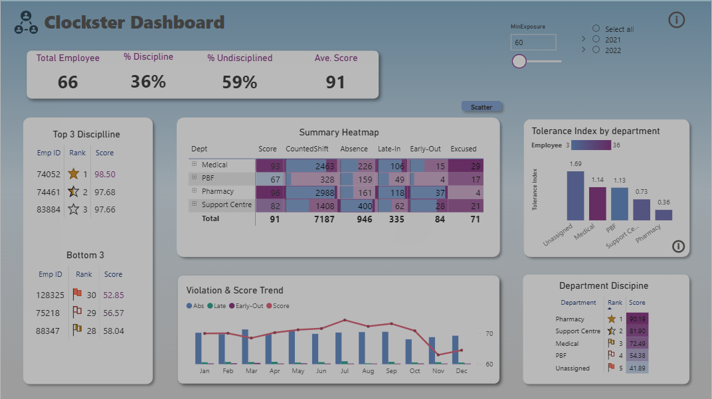

What the dashboard file says about the page in this screenshot:
{"tool":"powerbi","page":{"name":"Exec Summary","canvas":[1280,720],"ordinal":0},"visuals":[{"type":"group","id":"g1","title":"Undisc Emp","box":[732.3,76.9,254,108.2],"z":0},{"type":"shape","box":[732.3,76.9,254,108.2],"z":0,"group":"g1"},{"type":"shape","box":[986.3,76.9,254,108.2],"z":0,"group":"g2"},{"type":"shape","title":"Shape KPI","box":[36.5,77.6,656,108.4],"z":0,"group":"g8"},{"type":"shape","title":"Shape Emp by Dept","box":[357.3,204.9,891.2,185],"z":0,"group":"g5"},{"type":"shape","title":"Shape Emp by Dept","box":[18,205,325.8,185],"z":0,"group":"g3"},{"type":"shape","title":"Shape Emp by Dept","box":[357.3,400.4,326.8,297.4],"z":0,"group":"g6"},{"type":"shape","title":"Shape Emp by Dept","box":[692.5,400.4,555.9,297.4],"z":0,"group":"g7"},{"type":"shape","title":"Shape Emp by Dept","box":[17,401,326.8,297.4],"z":0,"group":"g4"},{"type":"group","id":"g2","title":"Undisc Dept","box":[986.3,76.9,254,108.2],"z":1000},{"type":"cardVisual","title":"Total Employee","fields":{"Data":["Measure.Total_Emp"]},"box":[55.5,90.4,131.8,83.8],"z":1000,"group":"g8"},{"type":"cardVisual","title":"Top Undisciplined Department","fields":{"Data":["Min(users.department)"]},"box":[1001,91.4,224.2,81.4],"z":1000,"group":"g2"},{"type":"cardVisual","title":"Top Undisciplined Employee","fields":{"Data":["Min(schedules.user_id)"]},"box":[747.2,91.8,224.2,81.4],"z":1000,"group":"g1"},{"type":"barChart","title":"Employees by Department","fields":{"Y":["CountNonNull(users.user_id)"],"Category":["users.department"]},"box":[36.7,215.3,289.7,162.7],"z":1000,"group":"g3"},{"type":"lineClusteredColumnComboChart","title":"Violation & Score Trend","fields":{"Category":["Date_dim.Date Hierarchy.MonthName","Date_dim.Date Hierarchy.WeekdayName"],"Y":["Measure.Unexcused_Abs_Shifts_Count","Measure.Late_Shifts_Count","Measure.Early-Out_Shifts_Count"],"Y2":["Measure.Discipline_Score"]},"box":[375.1,215.3,858.3,162.7],"z":1000,"group":"g5"},{"type":"donutChart","title":"Category Distribution","fields":{"Y":["Measure.Undisciplined_Emp","Measure.Disciplined_Emp","Measure.Needs Attention"]},"box":[36.8,412.8,289.7,273.9],"z":1000,"group":"g4"},{"type":"clusteredColumnChart","title":"Tolerance Index by department","fields":{"Category":["users.department"],"Y":["Measure.Tolerance_Index"]},"box":[375.1,412.8,289.7,273.9],"z":1000,"group":"g6"},{"type":"pivotTable","title":"Summary Table","fields":{"Rows":["users.department","schedules.user_id"],"Values":["Measure.Discipline_Score","Measure.Unexcused_Abs_Shifts_Count","Measure.Late_Shifts_Count","Measure.Early-Out_Shifts_Count","Measure.Discipline_Category"]},"box":[709.4,412.8,523.9,273.9],"z":1000,"group":"g7"},{"type":"cardVisual","title":"% Disciplined","fields":{"Data":["Measure.% Discplined"]},"box":[201.4,89.4,131.8,83.8],"z":2000,"group":"g8"},{"type":"actionButton","title":"Button Info","box":[368,568.8,33,52.2],"z":2000,"group":"g6"},{"type":"actionButton","title":"Button Info","box":[1197.9,12.8,42.3,39.8],"z":3000},{"type":"cardVisual","title":"% Undisciplined","fields":{"Data":["Measure.% Undisciplined"]},"box":[366.1,90.4,131.8,83.8],"z":3000,"group":"g8"},{"type":"cardVisual","title":"Ave. Score","fields":{"Data":["Measure.Discipline_Score"]},"box":[539.3,90.4,131.8,83.8],"z":4000,"group":"g8"},{"type":"group","id":"g3","title":"Emp by Dept","box":[18,205,325.8,185],"z":5000},{"type":"group","id":"g4","title":"Cat Distribution","box":[17,401,326.8,297.4],"z":6000},{"type":"group","id":"g5","title":"Violation Trend","box":[357.3,204.9,891.2,185],"z":7000},{"type":"group","id":"g6","title":"Tolerance Index","box":[357.3,400.4,326.8,297.4],"z":8000},{"type":"group","id":"g7","title":"Matrix Table","box":[692.5,400.4,555.9,297.4],"z":9000},{"type":"group","id":"g8","title":"KPI","box":[36.5,77.6,656,108.4],"z":10000}]}

Visuals, with their boxes in screenshot pixels (x1, y1, x2, y2), scaled from the page's 1280x720 canvas onto the 712x399 screenshot:
"Undisc Emp" group: (407,43,549,103)
shape: (407,43,549,103)
shape: (549,43,690,103)
"Shape KPI" shape: (20,43,385,103)
"Shape Emp by Dept" shape: (199,114,694,216)
"Shape Emp by Dept" shape: (10,114,191,216)
"Shape Emp by Dept" shape: (199,222,381,387)
"Shape Emp by Dept" shape: (385,222,694,387)
"Shape Emp by Dept" shape: (9,222,191,387)
"Undisc Dept" group: (549,43,690,103)
"Total Employee" cardVisual: (31,50,104,97)
"Top Undisciplined Department" cardVisual: (557,51,682,96)
"Top Undisciplined Employee" cardVisual: (416,51,540,96)
"Employees by Department" barChart: (20,119,182,209)
"Violation & Score Trend" lineClusteredColumnComboChart: (209,119,686,209)
"Category Distribution" donutChart: (20,229,182,381)
"Tolerance Index by department" clusteredColumnChart: (209,229,370,381)
"Summary Table" pivotTable: (395,229,686,381)
"% Disciplined" cardVisual: (112,50,185,96)
"Button Info" actionButton: (205,315,223,344)
"Button Info" actionButton: (666,7,690,29)
"% Undisciplined" cardVisual: (204,50,277,97)
"Ave. Score" cardVisual: (300,50,373,97)
"Emp by Dept" group: (10,114,191,216)
"Cat Distribution" group: (9,222,191,387)
"Violation Trend" group: (199,114,694,216)
"Tolerance Index" group: (199,222,381,387)
"Matrix Table" group: (385,222,694,387)
"KPI" group: (20,43,385,103)
